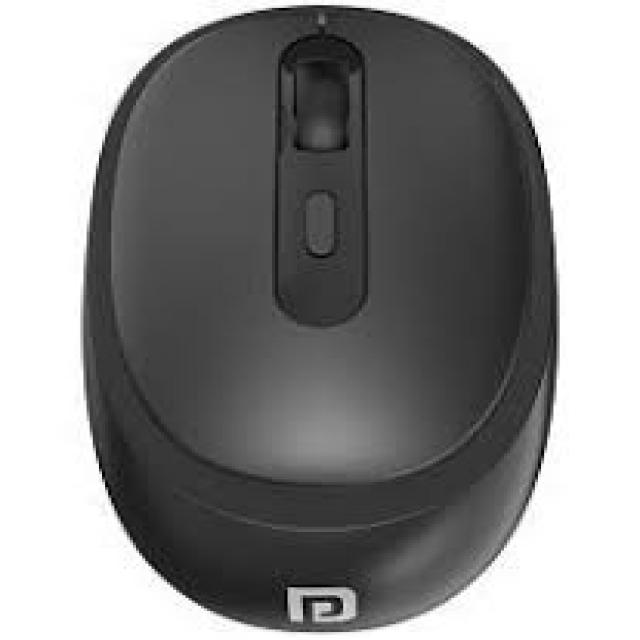others: (84, 2, 578, 634)
